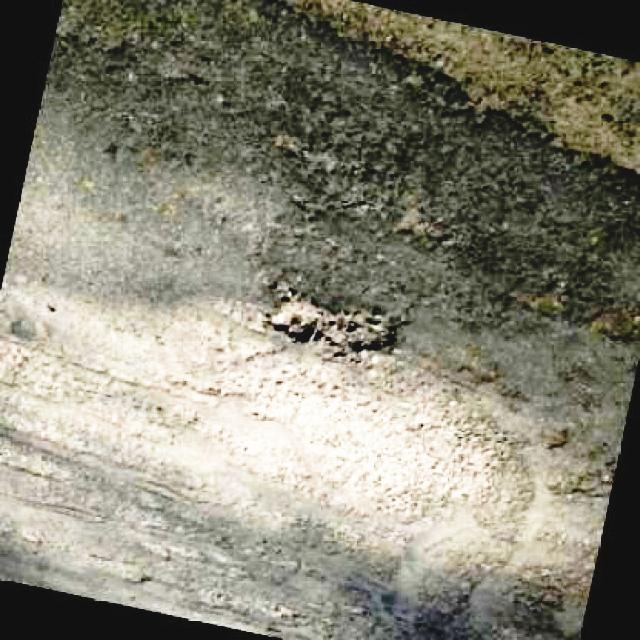pothole: (276, 288, 402, 355)
